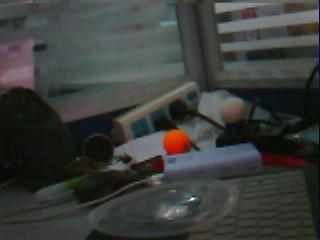oball: (163, 128, 189, 154)
